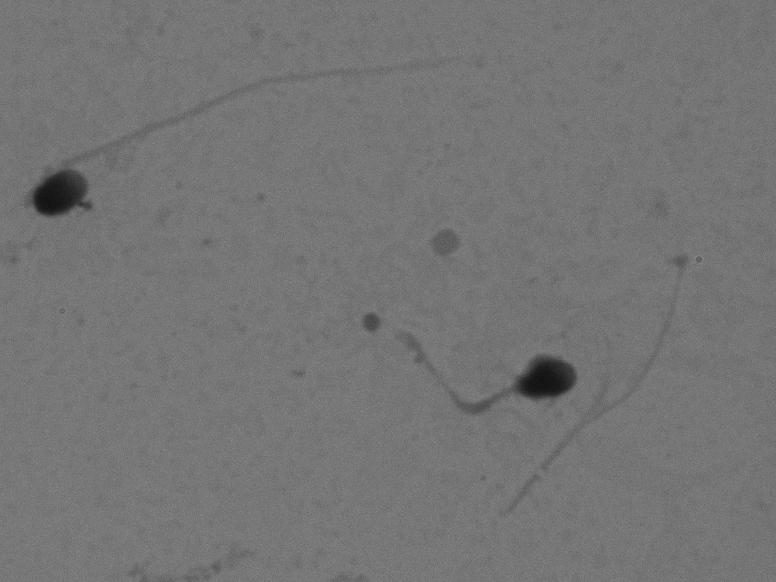Abnormal: (17, 15, 530, 250), (364, 288, 596, 463)
